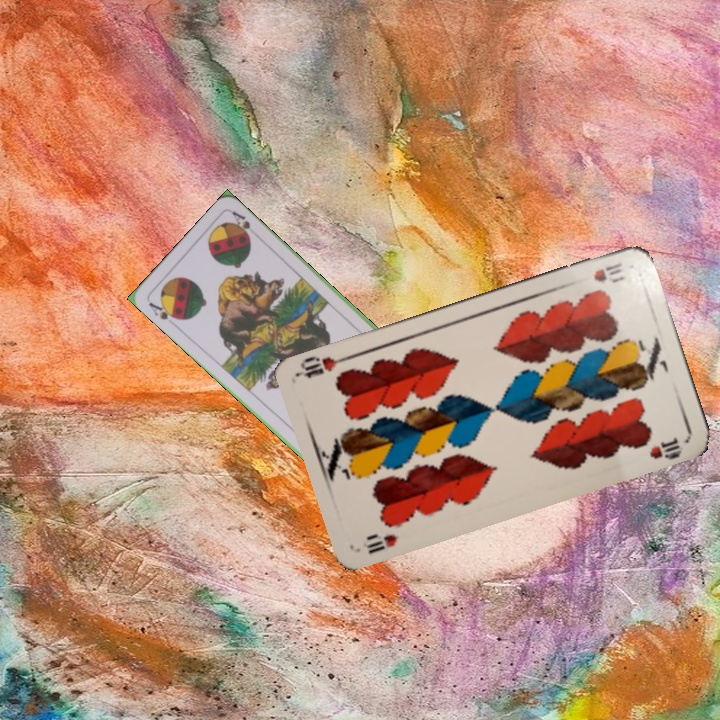H10: (358, 529, 400, 557), (589, 258, 628, 285)
SA: (144, 298, 182, 323)
